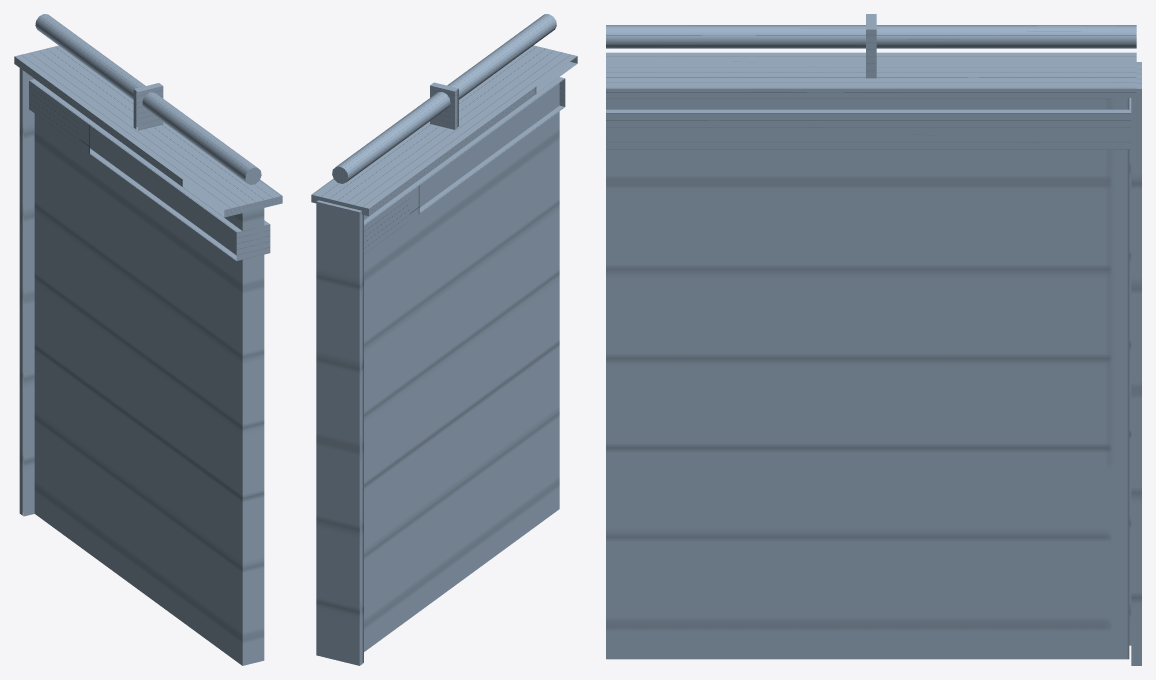
The model's file is Pedestrian Deck.fbx.
3 views of the same model, side by side, from view 1: azimuth 30°, elevation 25°; view 2: azimuth 150°, elevation 25°; view 3: azimuth 270°, elevation 25° (orthographic). The views are drawn at different scales.
Parts seen in each view (by area): view 1: Pedestrian Deck; view 2: Pedestrian Deck; view 3: Pedestrian Deck.
Part boxes in pixels (box(x1,y1,x2,y2)): Pedestrian Deck: box(14, 14, 282, 665); Pedestrian Deck: box(311, 14, 577, 665); Pedestrian Deck: box(606, 14, 1141, 665).
Size of the model in its own units: 40 by 328 by 253.
